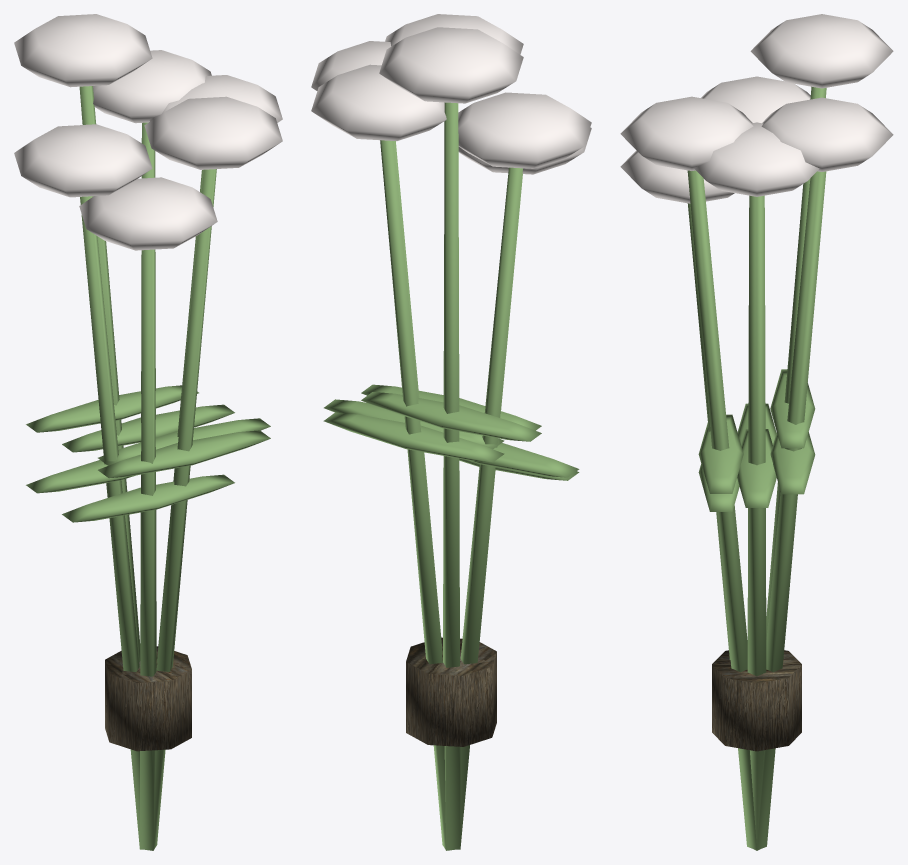
The model's file is SM_Item_herb.gltf.
3 renders of one model, left to right at view 1: azimuth 30°, elevation 25°; view 2: azimuth 150°, elevation 25°; view 3: azimuth 270°, elevation 25°, orthographic. The views are drawn at different scales.
Visible parts, largest first — view 1: SM_Item_herb; view 2: SM_Item_herb; view 3: SM_Item_herb.
Boxes of the visible parts, <box> form: SM_Item_herb: <box>14,14,282,850</box>; SM_Item_herb: <box>311,14,591,850</box>; SM_Item_herb: <box>620,14,893,850</box>.
Bounding box in the file's own units: 0.1172 × 0.3535 × 0.1092.
3 materials, 1 textured.
